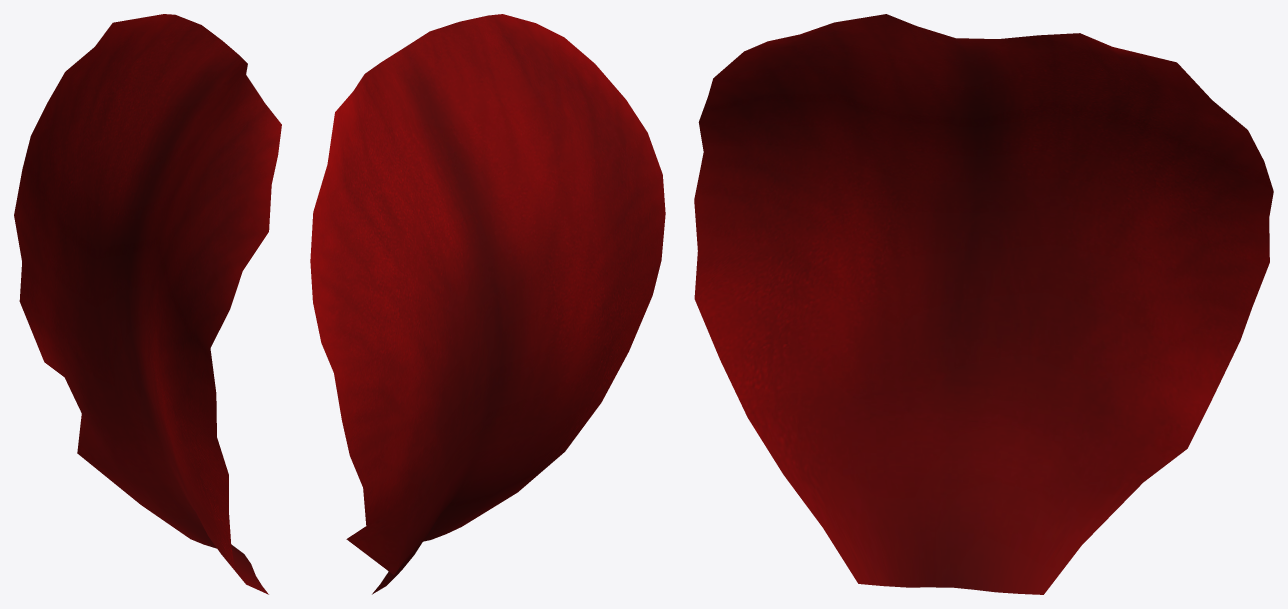
File: petal2.fbx
3 views of the same model, side by side, from view 1: azimuth 30°, elevation 25°; view 2: azimuth 150°, elevation 25°; view 3: azimuth 270°, elevation 25° (orthographic). The views are drawn at different scales.
Visible parts, largest first — view 1: cgaxis_models_26_11_01_1; view 2: cgaxis_models_26_11_01_1; view 3: cgaxis_models_26_11_01_1.
Boxes of the visible parts, <box> form: cgaxis_models_26_11_01_1: <box>14,14,281,594</box>; cgaxis_models_26_11_01_1: <box>310,14,665,594</box>; cgaxis_models_26_11_01_1: <box>694,14,1273,594</box>.
Bounding box in the file's own units: 0.5282 × 1.79 × 1.64.
